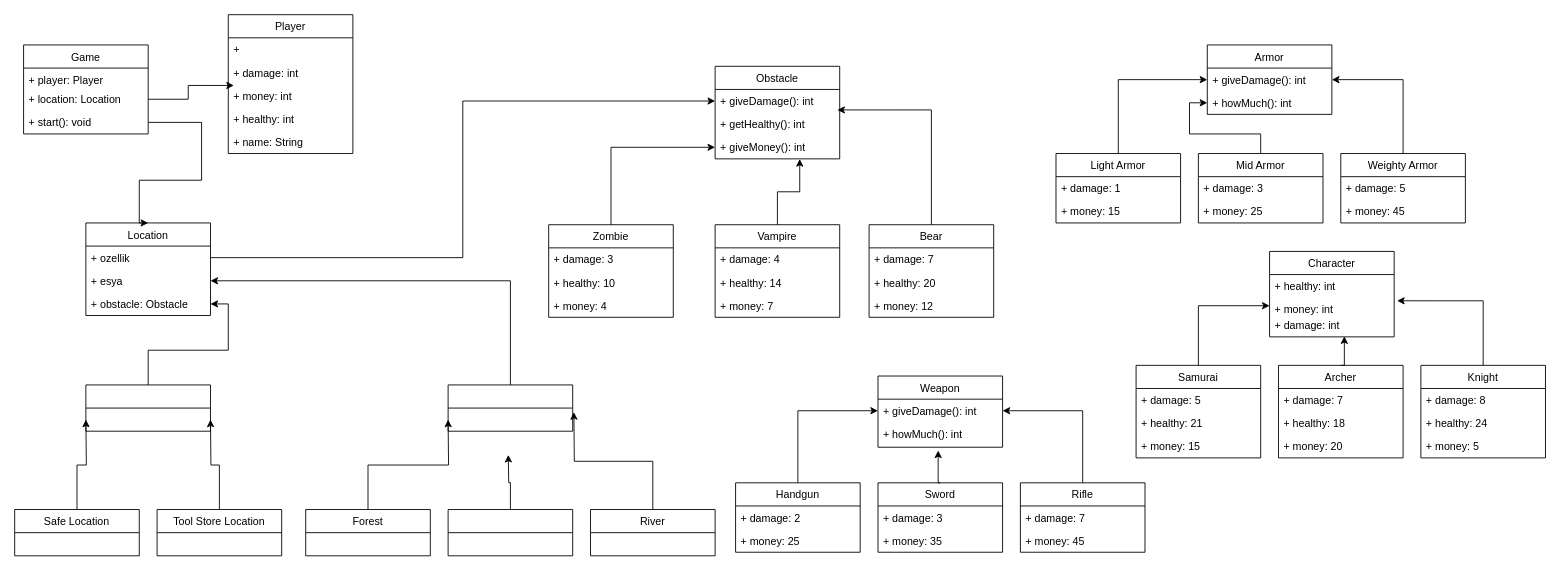
This 1560x570 diagram has some shape labels left out. Here are the shapes that lost their labels. From the top down, the centre of each, then its label:
(147,407): Normal Location
(510,407): Battle Location
(510,532): Cave
